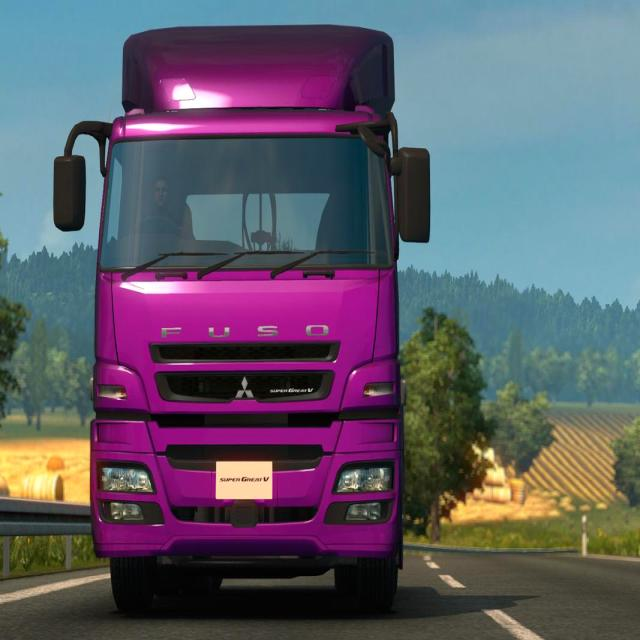truck: (53, 21, 432, 600)
